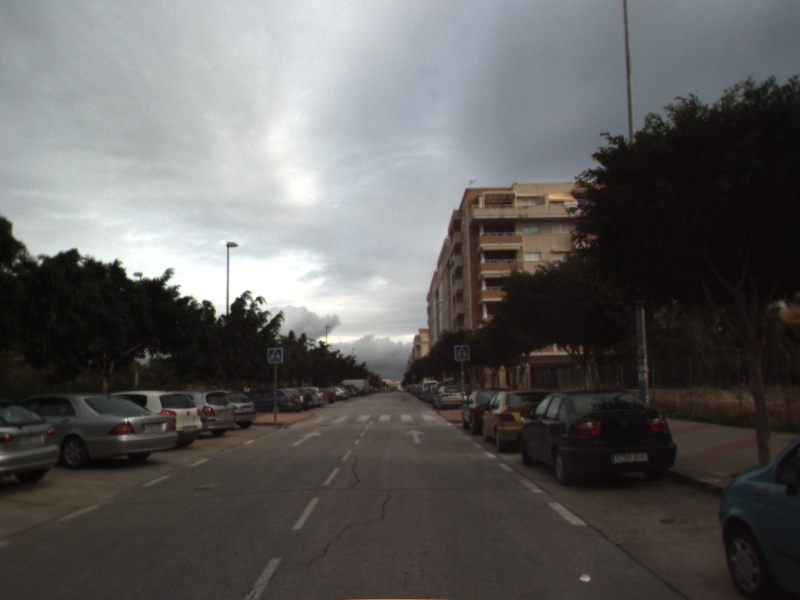STRAIGHT: (290, 428, 324, 448), (402, 427, 428, 445)
